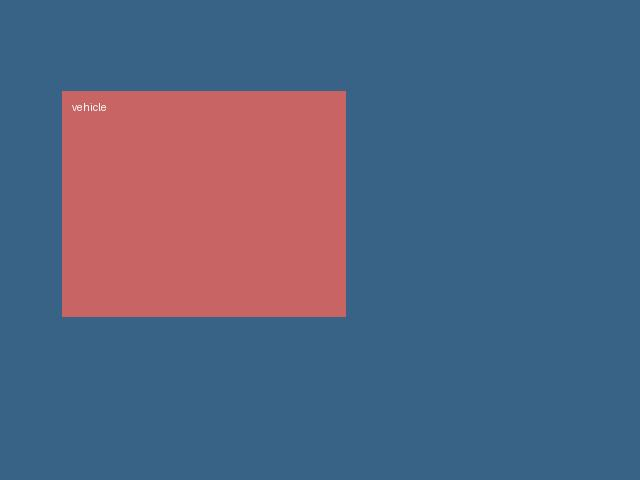vehicle: (62, 91, 345, 316)
